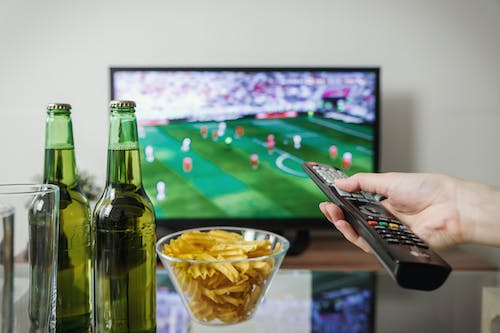alcohol: (91, 99, 156, 333), (27, 102, 92, 333)
